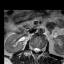CCS_stenosis: (35, 45, 37, 55)
LFS_normal: (40, 45, 42, 53)
LLS_normal: (37, 46, 40, 54)
RFS_normal: (31, 44, 33, 53)
RLS_normal: (33, 45, 35, 53)
